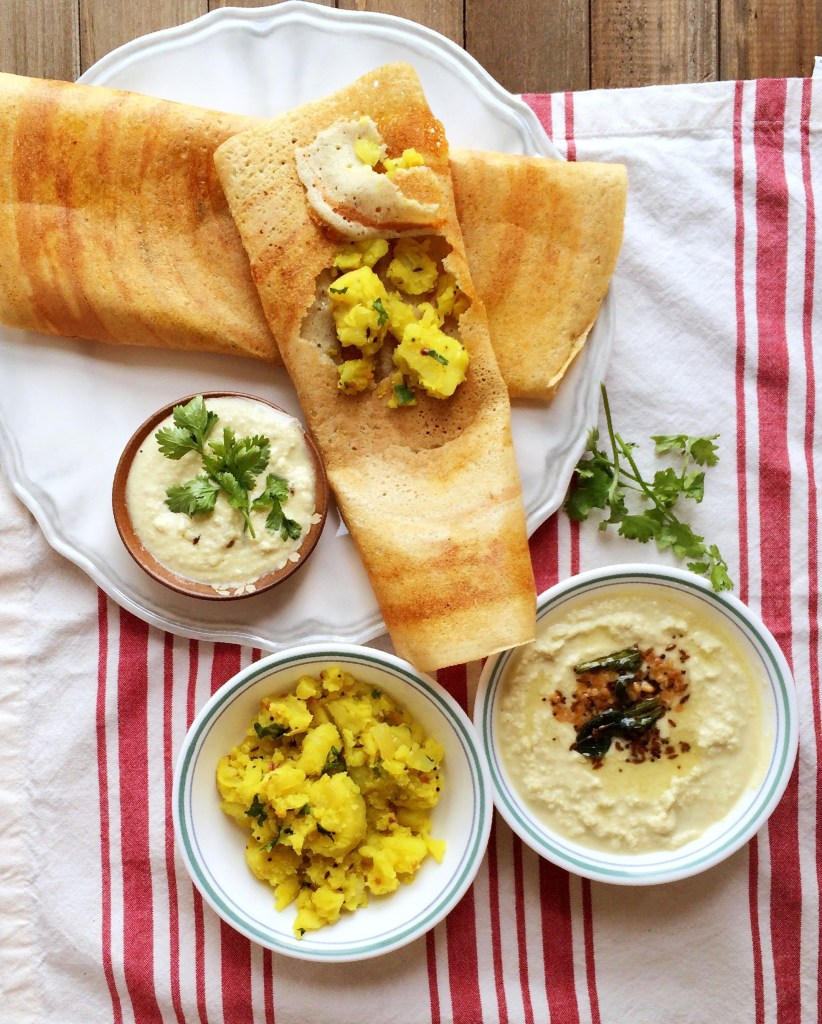dosa: (2, 57, 630, 667)
